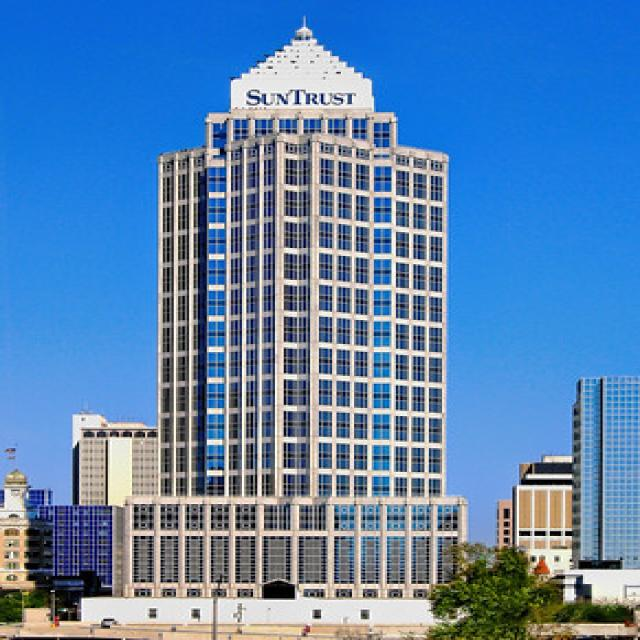Normal_building: (146, 39, 450, 582)
